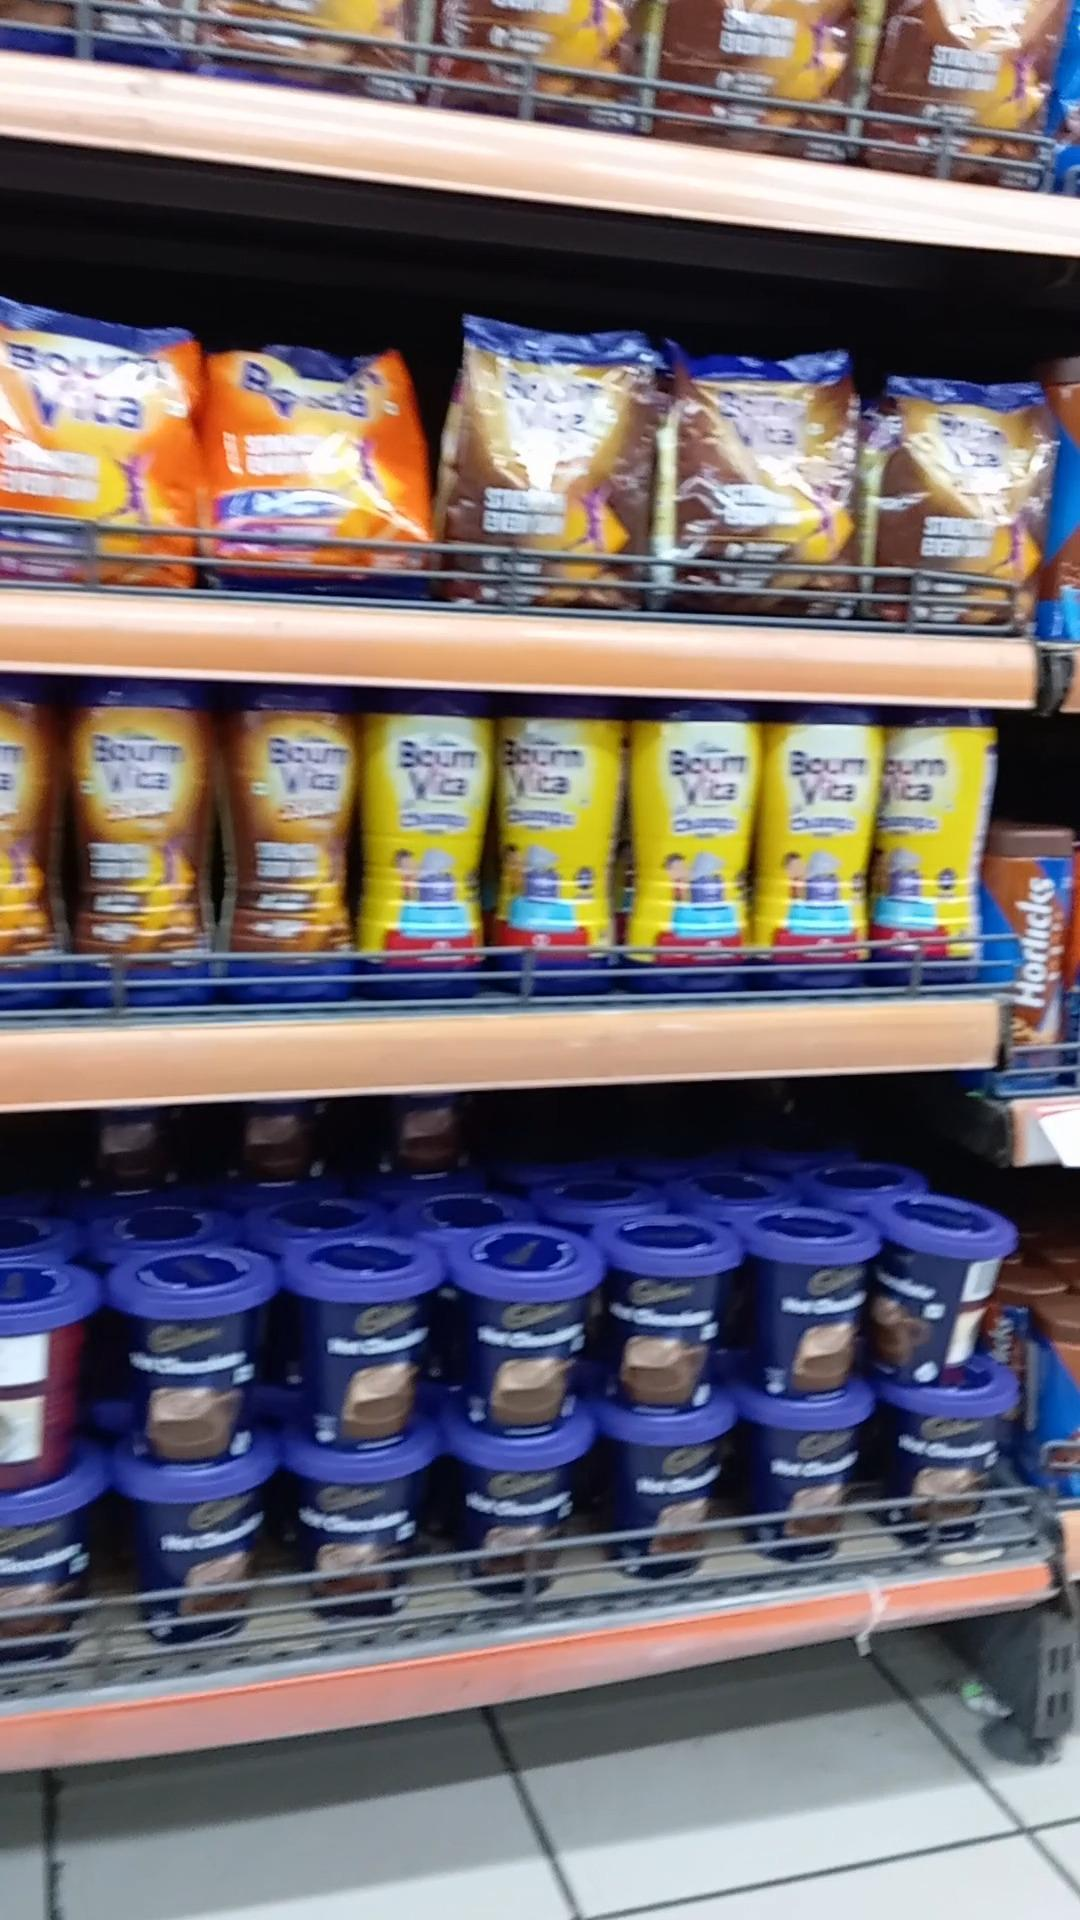BOURN_VITA_500_G_POUCH: (198, 335, 423, 604), (0, 298, 199, 584)
BOURN_VITA_CHAMPS_500_G_JAR: (365, 684, 488, 1005), (496, 686, 618, 996), (632, 699, 757, 998), (767, 700, 877, 1004), (882, 704, 976, 998)
BOURN_VITA_FIVE_STAR_MAGIC_500_G_JAR: (62, 669, 207, 1017), (224, 679, 361, 1026)
BOURN_VITA_FIVE_STAR_MAGIC_500_G_POUCH: (456, 315, 640, 613), (671, 342, 857, 622), (897, 377, 1048, 633)
HORLICK_CHOCOLATE_500_G_JAR: (993, 824, 1080, 1098)
